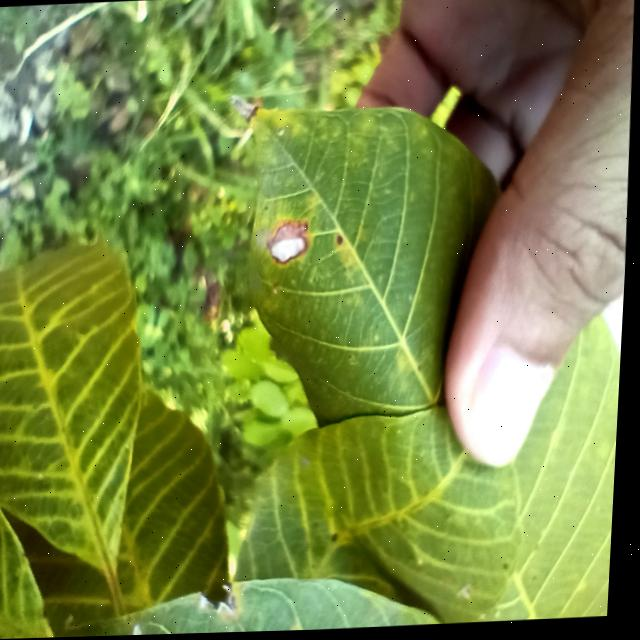Colletotrichum: (339, 236, 346, 245)
Leaf-Blight: (273, 223, 310, 262)
